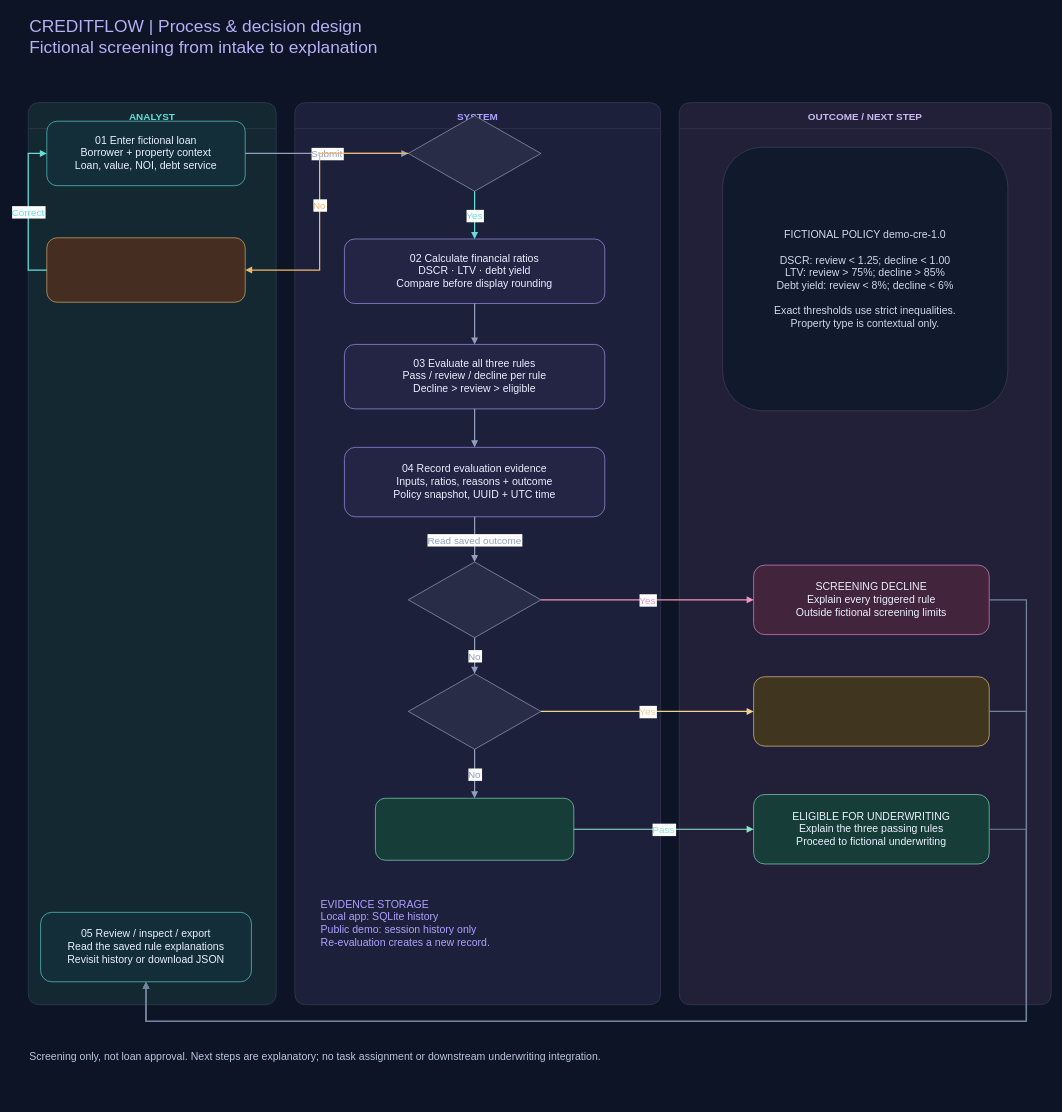
Image size: 1062x1112. Some labels were removed from this diagram. Here are the shapes that lost their labels. From the top down, the centre of each, then its label:
At pixel 474 153: "Inputs valid?".
At pixel 145 269: "Correct input errors Field-specific feedback Nothing recorded on failure".
At pixel 474 599: "Any decline?".
At pixel 474 711: "Any review?".
At pixel 871 711: "ANALYST REVIEW Explain the rule exceptions Closer analyst review is needed".
At pixel 474 829: "All three rules pass No decline or review triggers".
